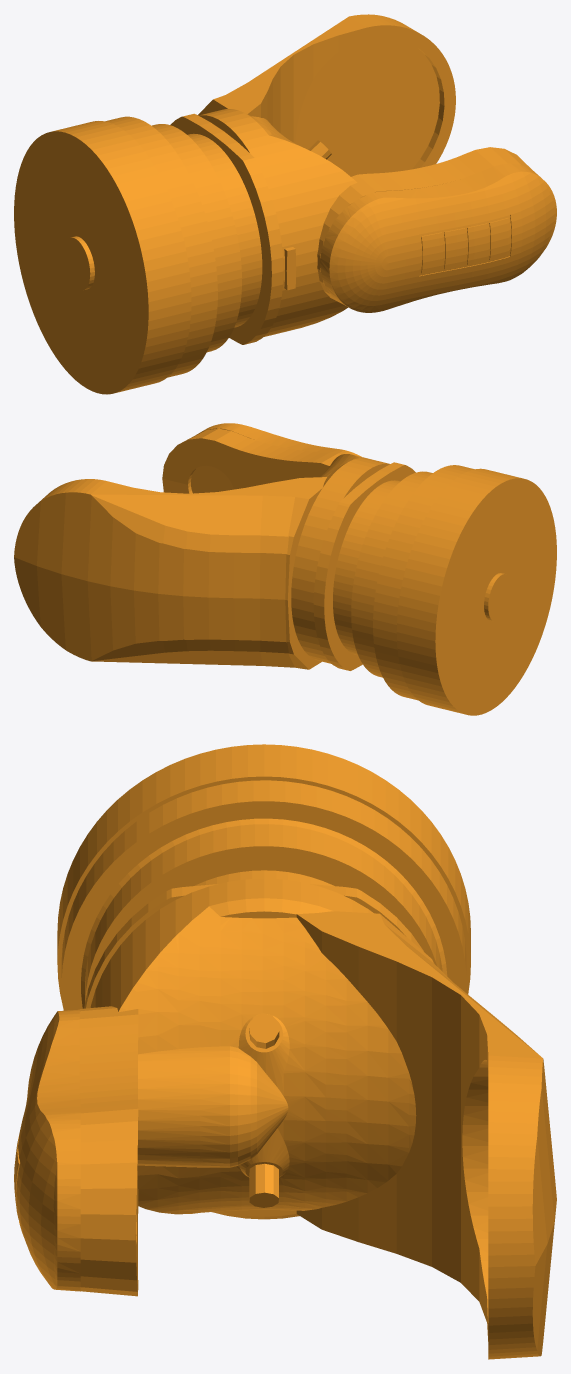
Rendered from KukaTitanLink4.dae.
3 renders of one model, top to bottom at view 1: azimuth 30°, elevation 25°; view 2: azimuth 150°, elevation 25°; view 3: azimuth 270°, elevation 25°, orthographic. The views are drawn at different scales.
Parts seen in each view (by area): view 1: KUKATitanLink4; view 2: KUKATitanLink4; view 3: KUKATitanLink4.
Boxes of the visible parts, x1,y1,x2,y2 form: KUKATitanLink4: [14, 14, 556, 394]; KUKATitanLink4: [14, 423, 556, 715]; KUKATitanLink4: [14, 744, 556, 1359].
Size of the model in its own units: 0.9607 by 0.6505 by 0.4954.
